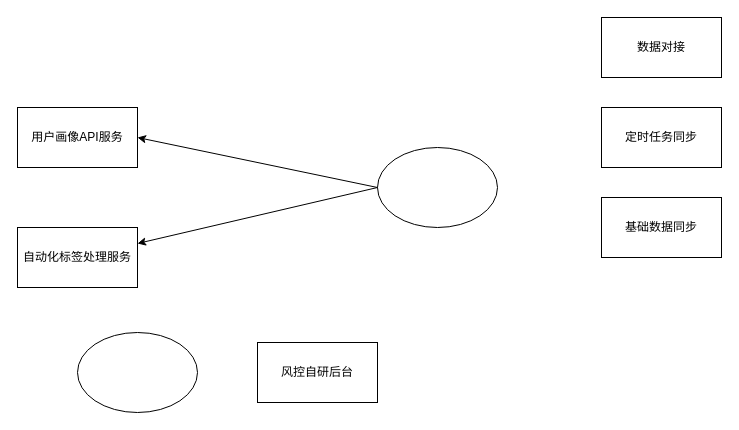
This 739x430 diagram has some shape labels left out. Here are the shapes that lost their labels. From the top down, the centre of each, then its label:
the point at 437,187: 用户画像
the point at 137,372: 数据清理
